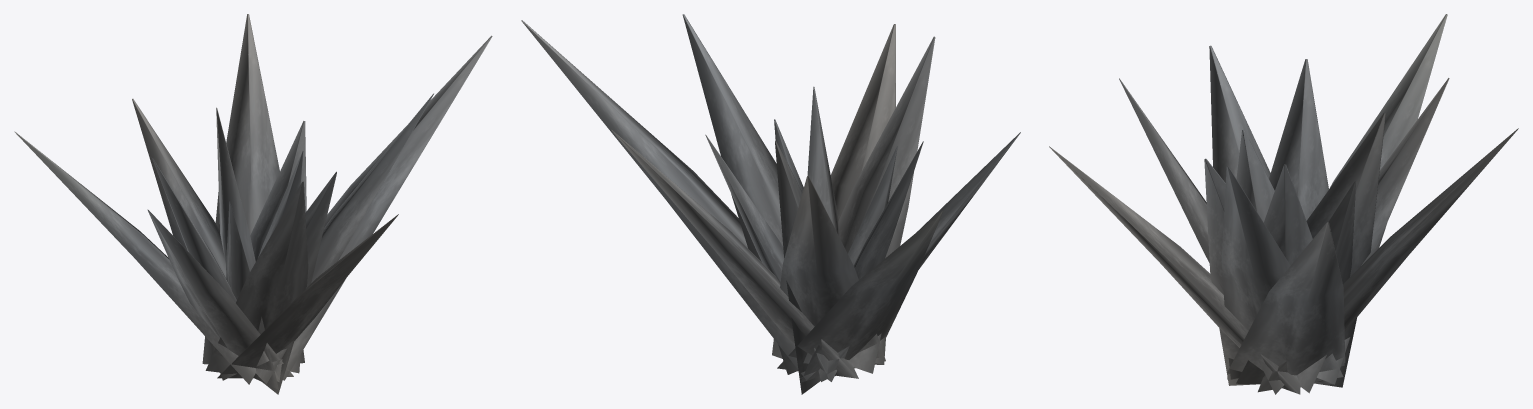
The model's file is rosette_big_l1.gltf.
3 renders of one model, left to right at view 1: azimuth 30°, elevation 25°; view 2: azimuth 150°, elevation 25°; view 3: azimuth 270°, elevation 25°, orthographic. The views are drawn at different scales.
Parts seen in each view (by area): view 1: rosette_big_l1; view 2: rosette_big_l1; view 3: rosette_big_l1.
Part boxes in pixels (x1,y1,x2,y2): rosette_big_l1: (14, 14, 492, 394); rosette_big_l1: (521, 14, 1020, 394); rosette_big_l1: (1049, 14, 1518, 394).
Size of the model in its own units: 2.15 by 1.29 by 1.76.
1 material, 1 textured.
